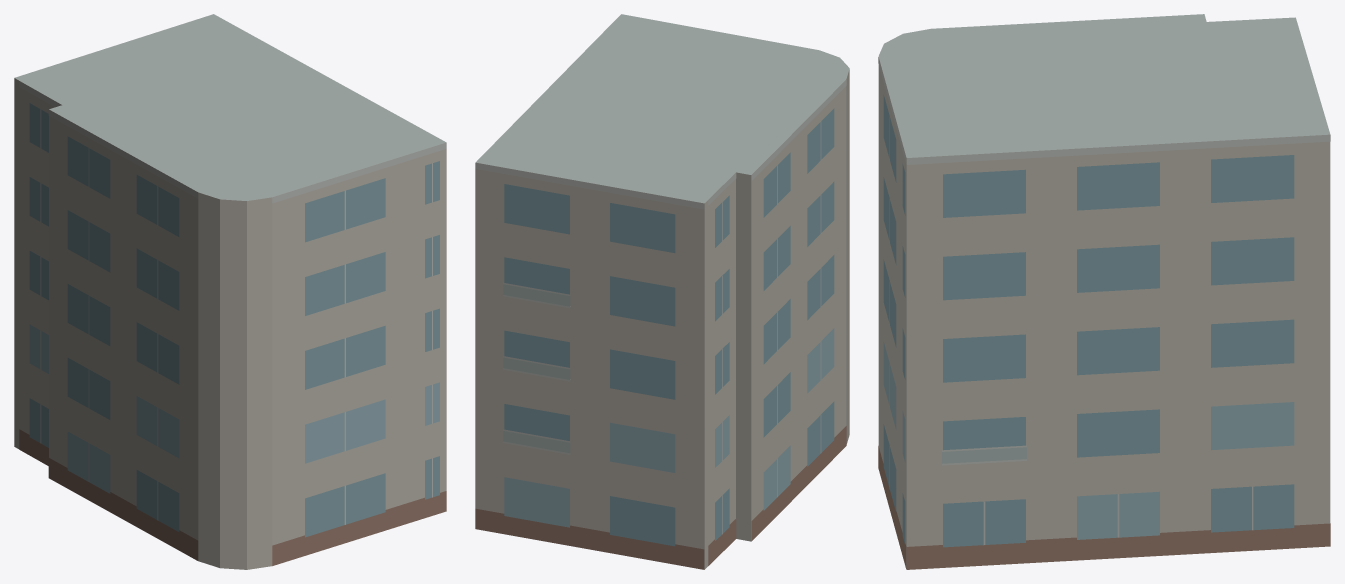
The model's file is survey-upis-32683464.glb.
3 views of the same model, side by side, from view 1: azimuth 30°, elevation 25°; view 2: azimuth 150°, elevation 25°; view 3: azimuth 270°, elevation 25° (orthographic). The views are drawn at different scales.
Parts seen in each view (by area): view 1: survey-upis-32683464.tmp; view 2: survey-upis-32683464.tmp; view 3: survey-upis-32683464.tmp.
Part boxes in pixels (<box>): survey-upis-32683464.tmp: <box>14,14,446,569</box>; survey-upis-32683464.tmp: <box>475,14,849,569</box>; survey-upis-32683464.tmp: <box>878,14,1330,569</box>.
Size of the model in its own units: 10.89 by 14.5 by 14.44.
